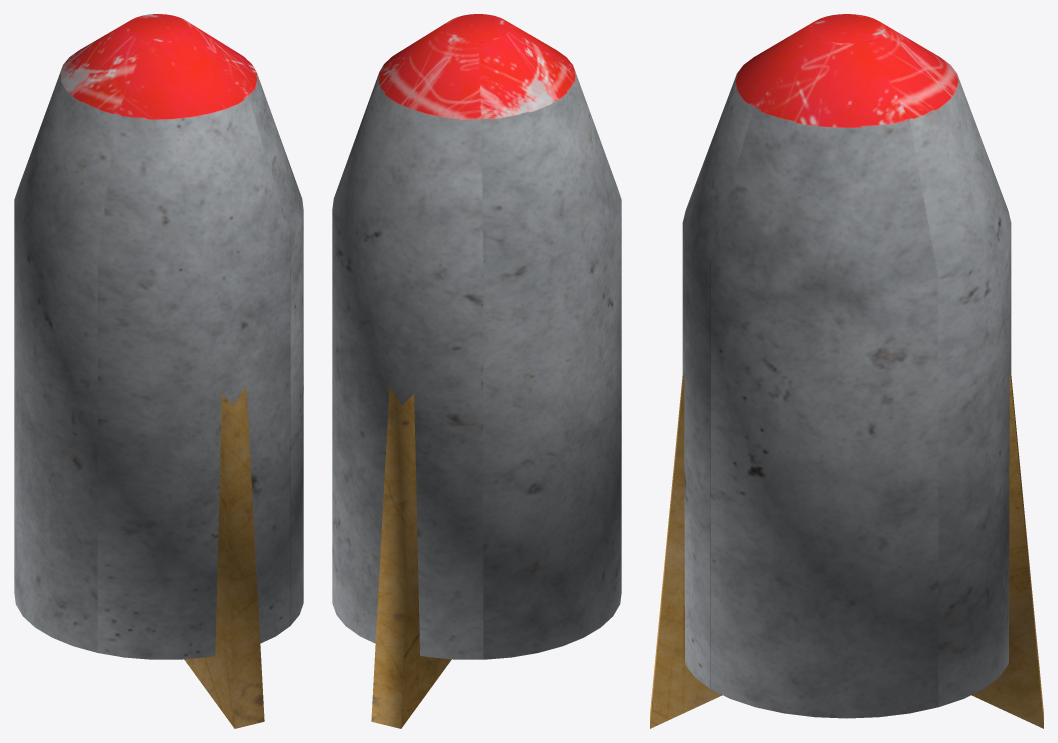
File: Rocket.fbx
3 views of the same model, side by side, from view 1: azimuth 30°, elevation 25°; view 2: azimuth 150°, elevation 25°; view 3: azimuth 270°, elevation 25° (orthographic). The views are drawn at different scales.
Parts seen in each view (by area): view 1: Cylinder; view 2: Cylinder; view 3: Cylinder.
Part boxes in pixels (box(x1,y1,x2,y2)): Cylinder: box(14, 14, 303, 728); Cylinder: box(332, 14, 621, 728); Cylinder: box(650, 14, 1043, 728).
Size of the model in its own units: 52.69 by 128 by 66.23.
